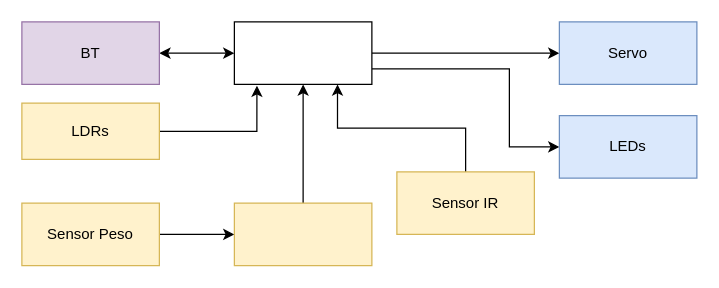
Image size: 719x288. Some labels were removed from this diagram. Each missing label, with the box of its shape:
Control: (233, 21, 372, 84)
Conversor: (233, 202, 372, 266)
